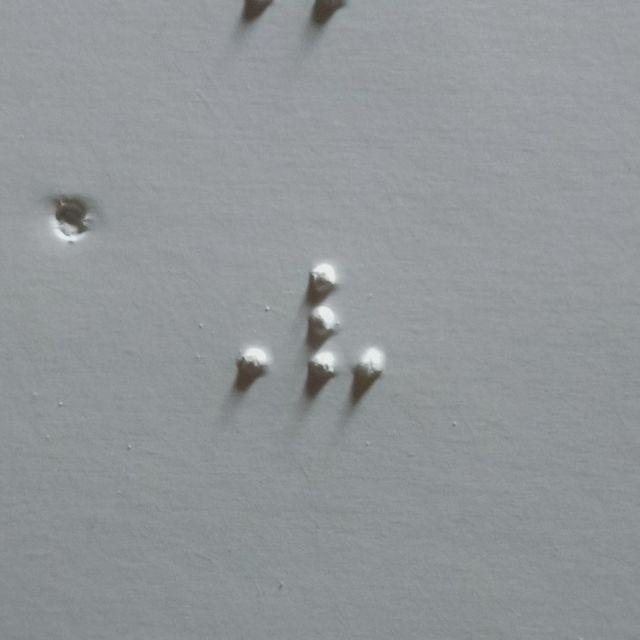V: (306, 263, 385, 384)
capital: (195, 260, 274, 380)
